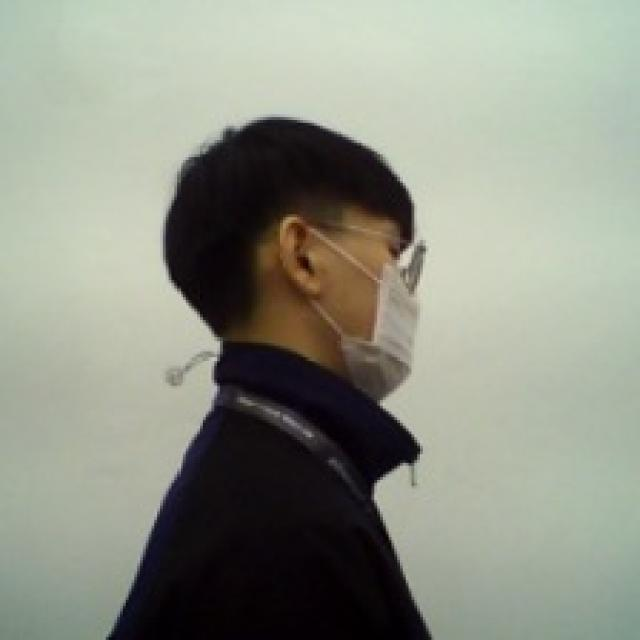mask: (260, 220, 440, 394)
no_gloves: (157, 111, 423, 260)
